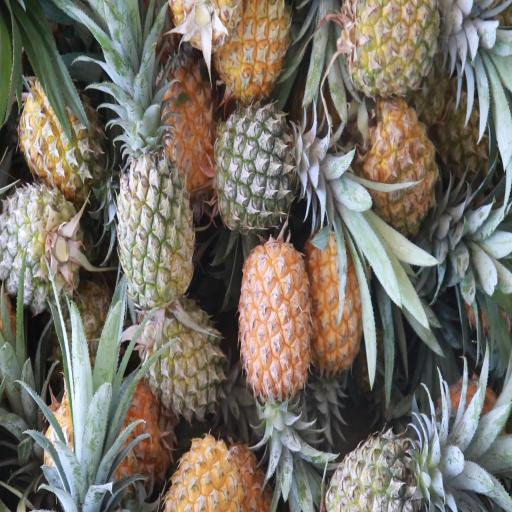------------------------------: (115, 128, 194, 298), (139, 301, 224, 416), (12, 76, 101, 183), (344, 0, 442, 92)
Pineapple - v8 v1: (241, 240, 313, 399), (364, 92, 442, 222), (310, 228, 372, 374), (155, 51, 218, 182), (217, 0, 290, 100)
